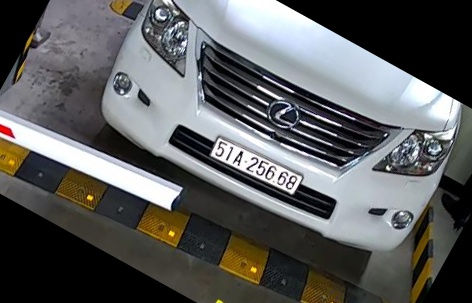plate: (201, 130, 320, 202)
